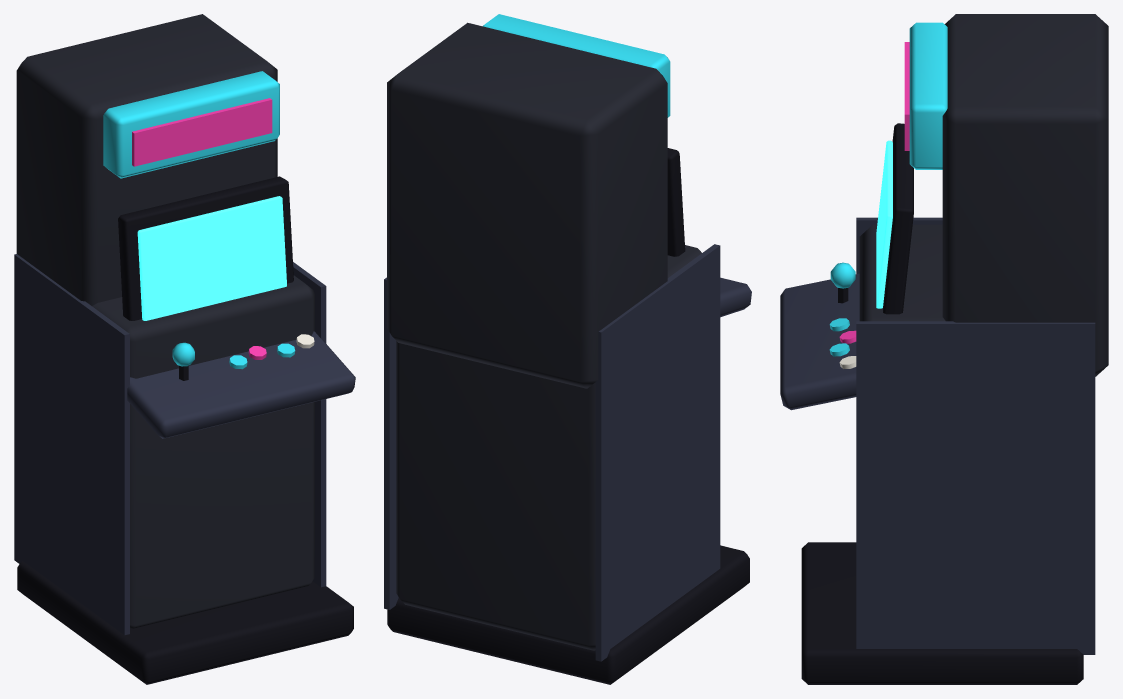
File: arcade_machine.glb
3 views of the same model, side by side, from view 1: azimuth 30°, elevation 25°; view 2: azimuth 150°, elevation 25°; view 3: azimuth 270°, elevation 25° (orthographic). The views are drawn at different scales.
Visible parts, largest first — view 1: arcade_machine; view 2: arcade_machine; view 3: arcade_machine.
Part boxes in pixels (x1,y1,x2,y2): arcade_machine: (14, 14, 355, 684); arcade_machine: (384, 14, 751, 684); arcade_machine: (780, 14, 1108, 684).
Size of the model in its own units: 0.8 by 1.9 by 0.9893.
